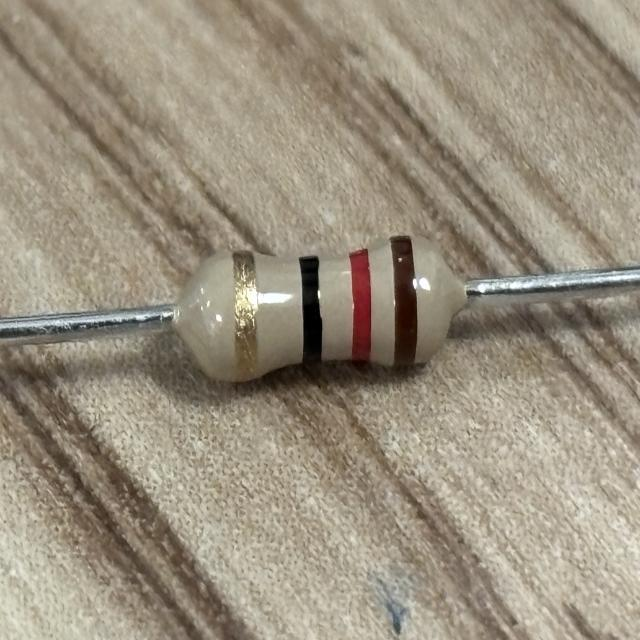resistor: (182, 226, 450, 393)
